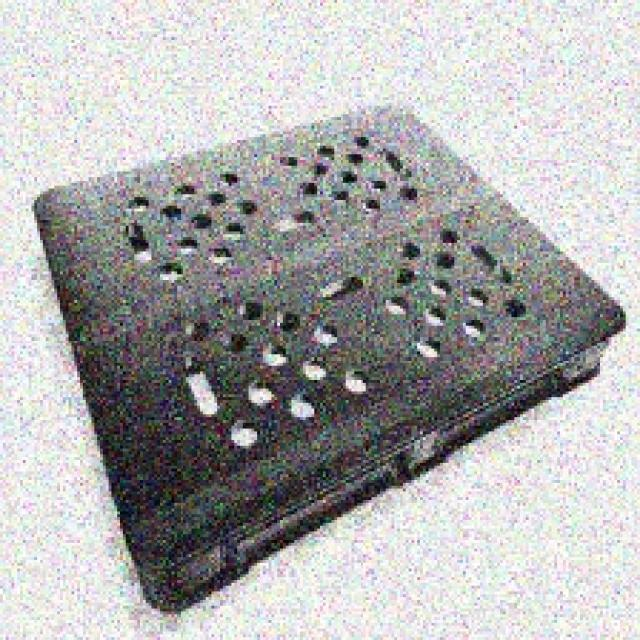igps: (27, 94, 631, 620)
